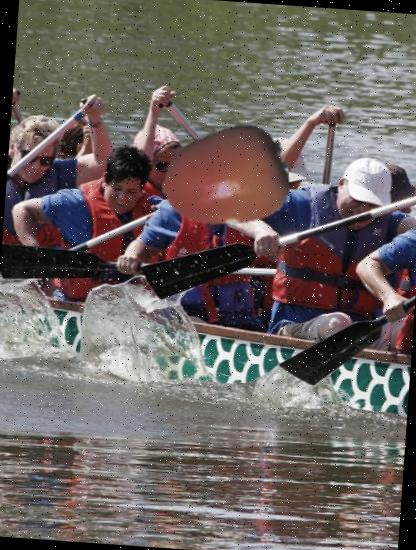Kaki: (157, 106, 292, 242)
